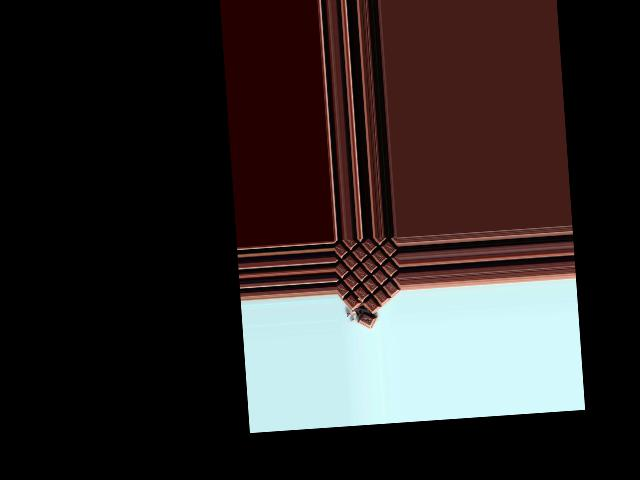chocolate: (334, 235, 400, 321)
